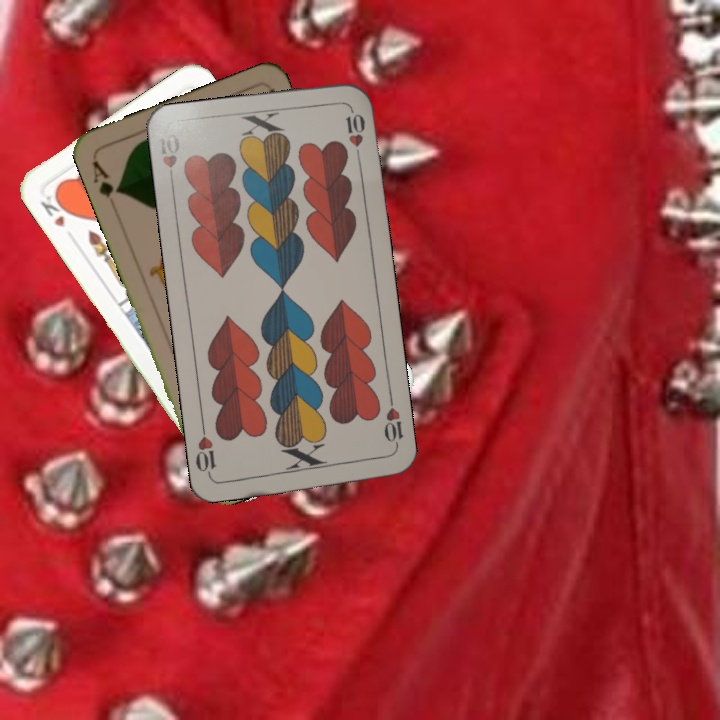GA: (88, 156, 124, 200)
H10: (155, 129, 183, 188), (380, 394, 406, 453)
HK: (36, 187, 73, 230)
